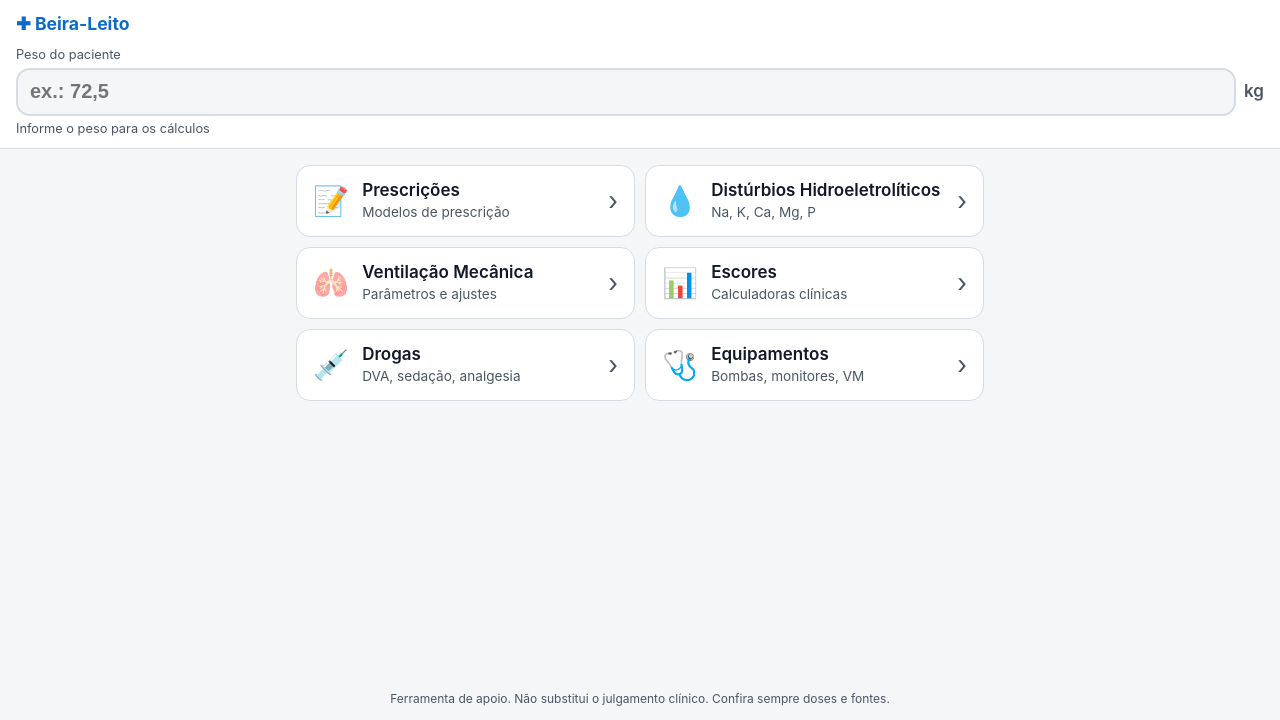
Test: peso do paciente › botão limpar apaga o peso
Step 1. Type "80" into the field labelled "Peso do paciente" → (626, 92), box x1=16 y1=68 x2=1236 y2=116
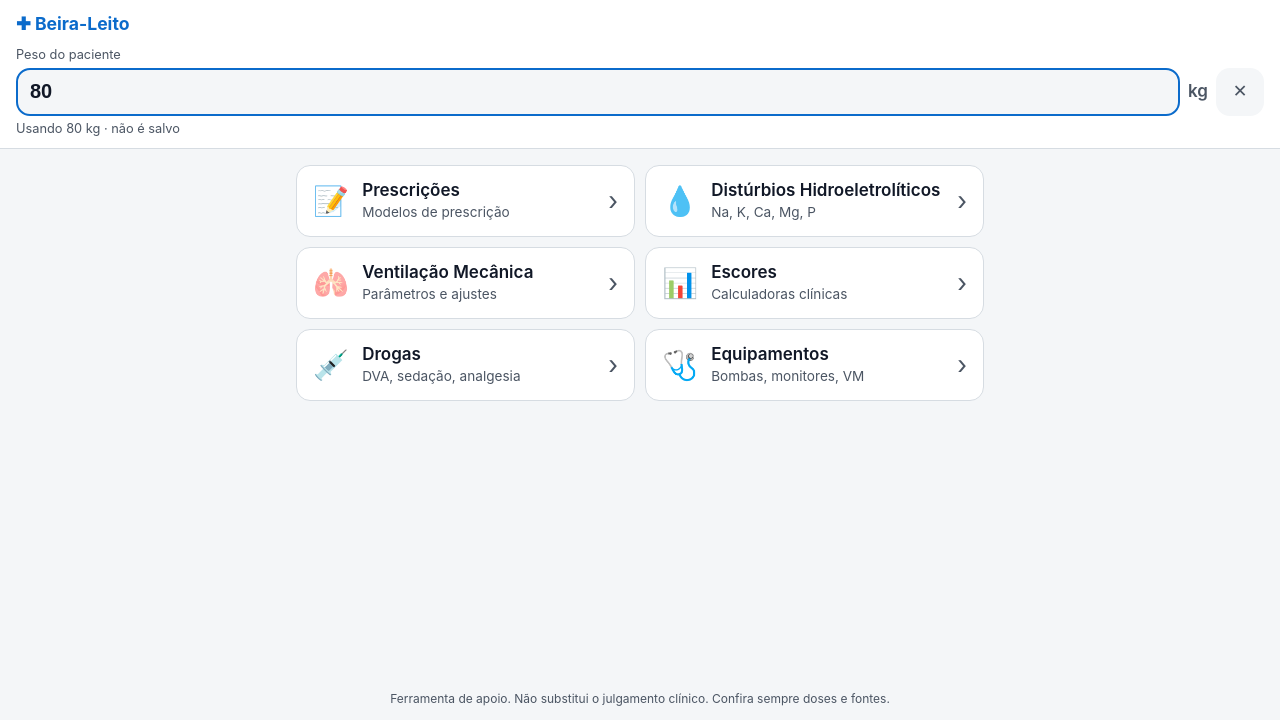
Step 2. Click the button named "Limpar peso" → (1240, 92), box x1=1216 y1=68 x2=1264 y2=116
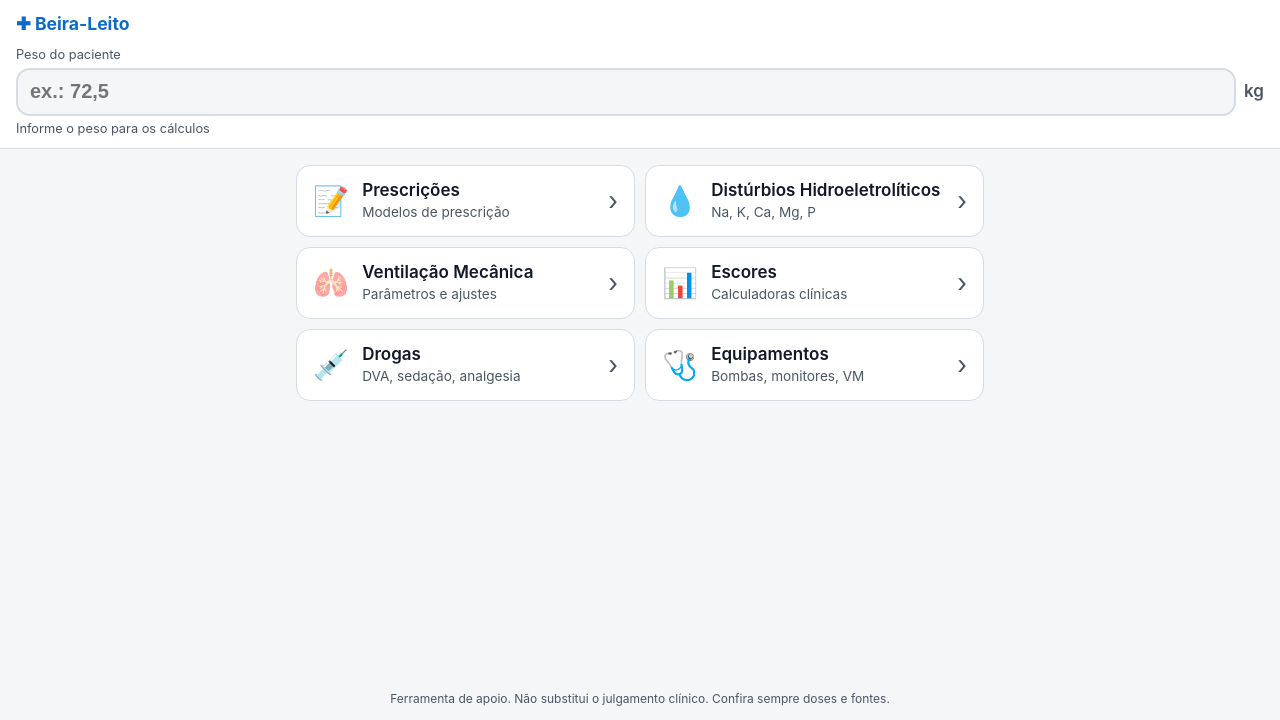
Now the field labelled "Peso do paciente" is empty, box x1=16 y1=68 x2=1236 y2=116
